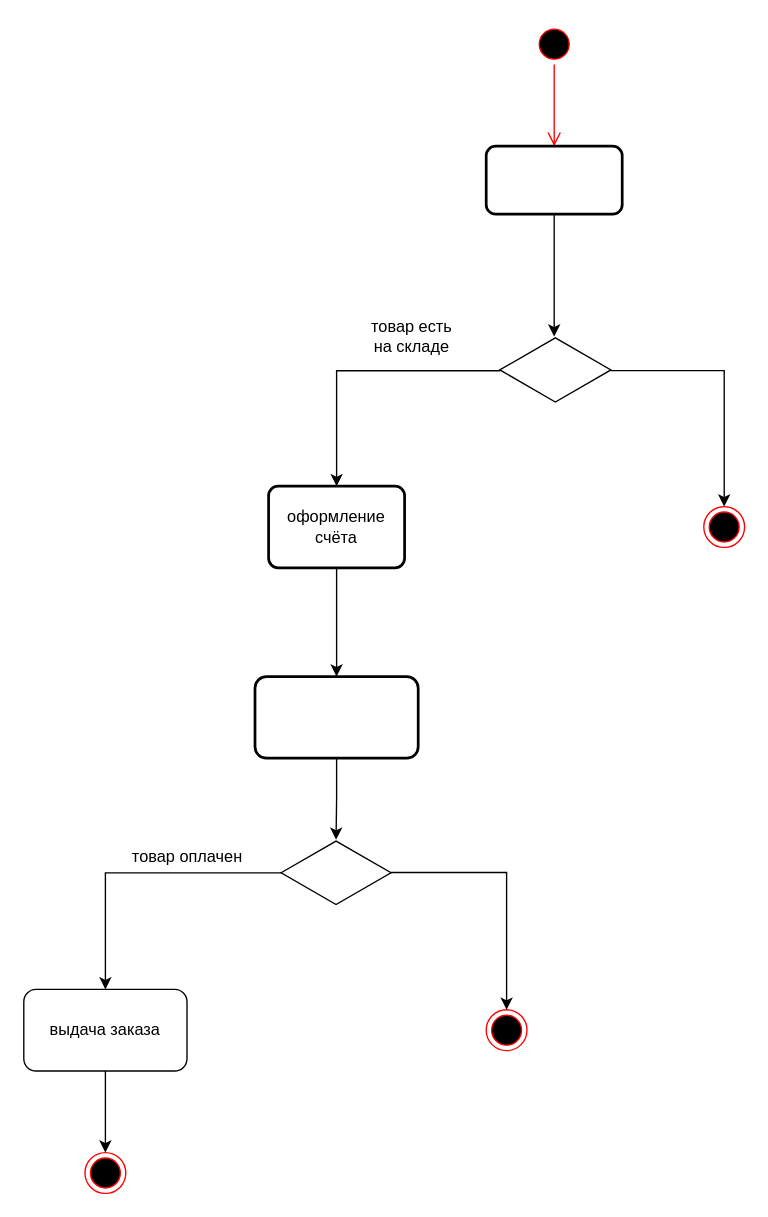
Some shapes in this 768 by 1217 pixel diagram are drawn without their labels. The shapes that lost their labels are listed below. From the top down, each one's box as (x1, y1, x2, y2) in pixels, then its label:
(484, 144, 623, 215): оформление заказа
(253, 675, 419, 759): оформление накладной
